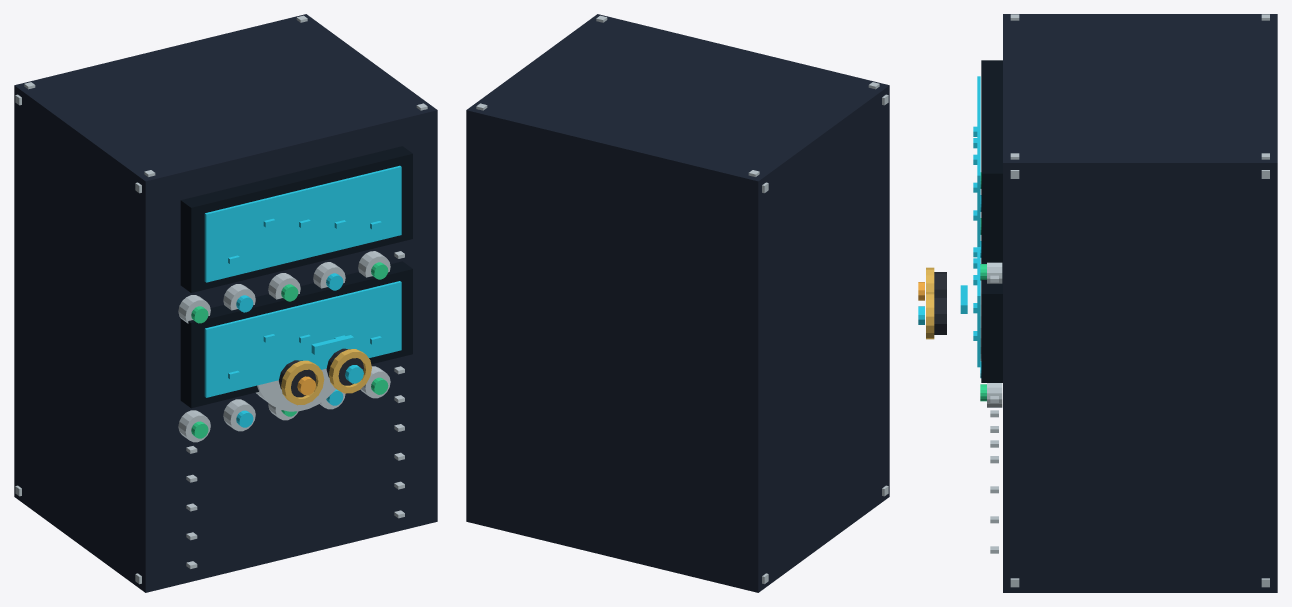
The model's file is 31_L82_RFPreselectorAndAttenuator.fbx.
The picture shows the model from 3 angles, left to right: view 1: azimuth 30°, elevation 25°; view 2: azimuth 150°, elevation 25°; view 3: azimuth 270°, elevation 25°; orthographic projection. The views are drawn at different scales.
Visible parts, largest first — view 1: RFPreselectorAndAttenuator, RFPreselectorAndAttenuator_Part_0069; view 2: RFPreselectorAndAttenuator; view 3: RFPreselectorAndAttenuator.
Part boxes in pixels (x1,y1,x2,y2): RFPreselectorAndAttenuator: (14,14,437,592); RFPreselectorAndAttenuator_Part_0069: (256,368,335,411); RFPreselectorAndAttenuator: (466,14,889,592); RFPreselectorAndAttenuator: (918,14,1277,592).
Size of the model in its own units: 106 by 142 by 106.
